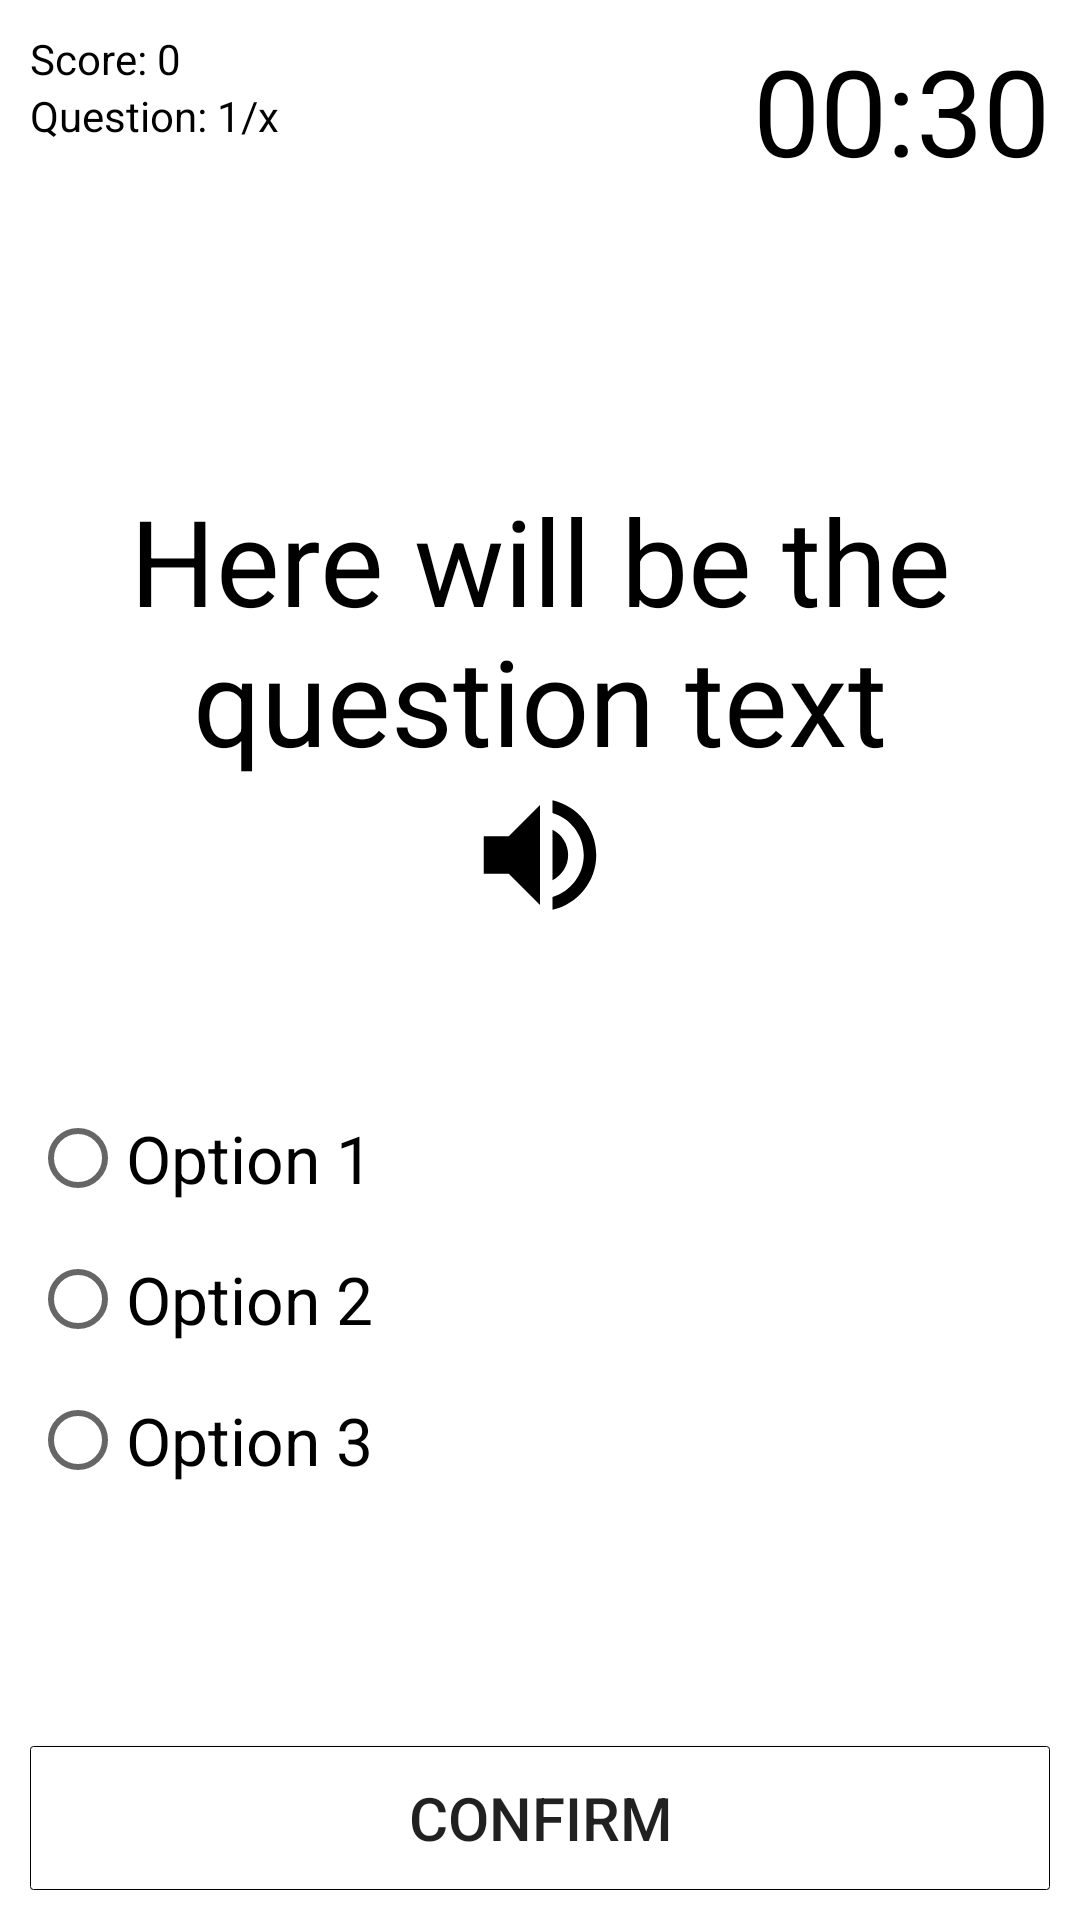

Icons on this 1080w x 1920h Android screen, each with its box as bbox=[x1, y1, x2, y2]:
speech: bbox=[483, 800, 597, 910]
